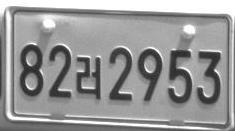2: (108, 46, 132, 101), (48, 44, 72, 98)
3: (195, 50, 221, 105)
5: (167, 49, 192, 103)
8: (18, 43, 44, 96)
9: (137, 47, 163, 102)
러: (75, 55, 101, 99)
